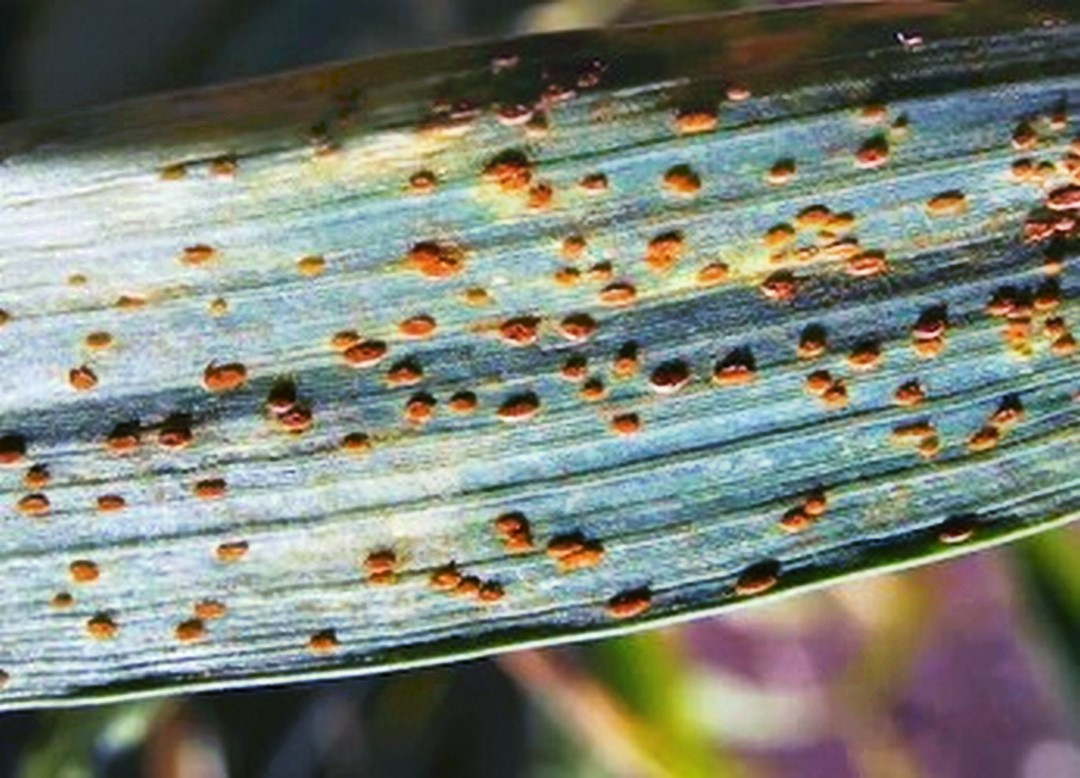Leaf Rust: (91, 65, 1076, 689)
